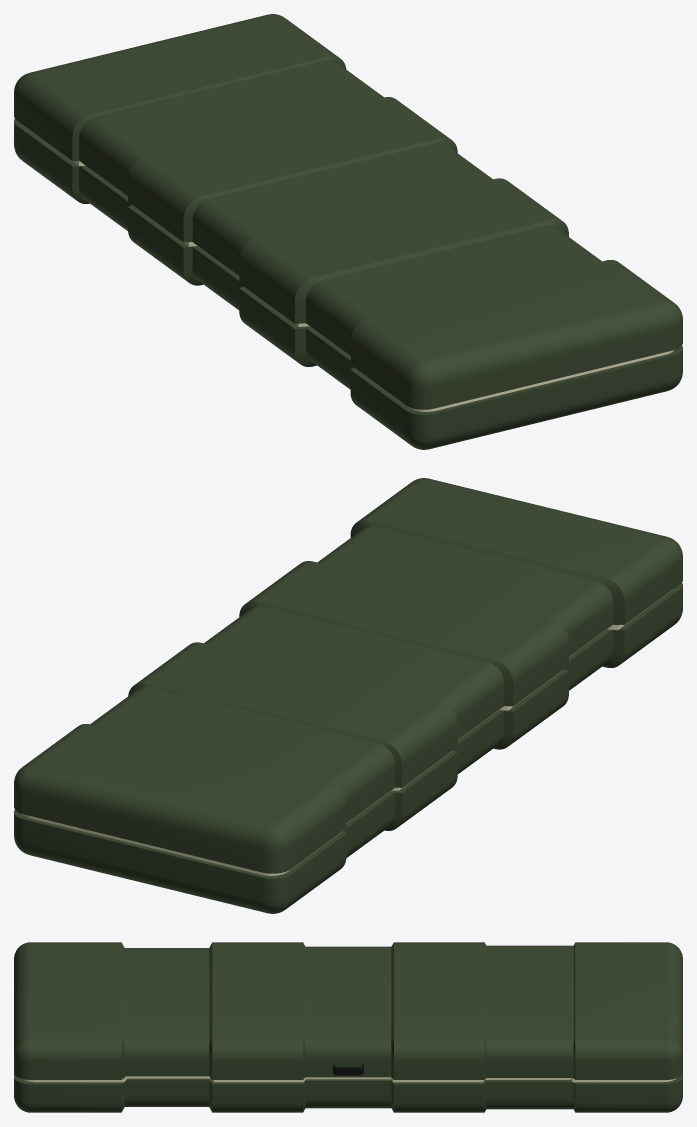
Rendered from militaryBox1.glb.
3 views of the same model, one above another, from view 1: azimuth 30°, elevation 25°; view 2: azimuth 150°, elevation 25°; view 3: azimuth 270°, elevation 25° (orthographic). The views are drawn at different scales.
Visible parts, largest first — view 1: Box1; view 2: Box1; view 3: Box1.
Boxes of the visible parts, bbox=[...] form: Box1: bbox=[14, 14, 682, 449]; Box1: bbox=[14, 478, 682, 913]; Box1: bbox=[14, 942, 682, 1112].
Bounding box in the file's own units: 0.7762 × 0.2391 × 2.
